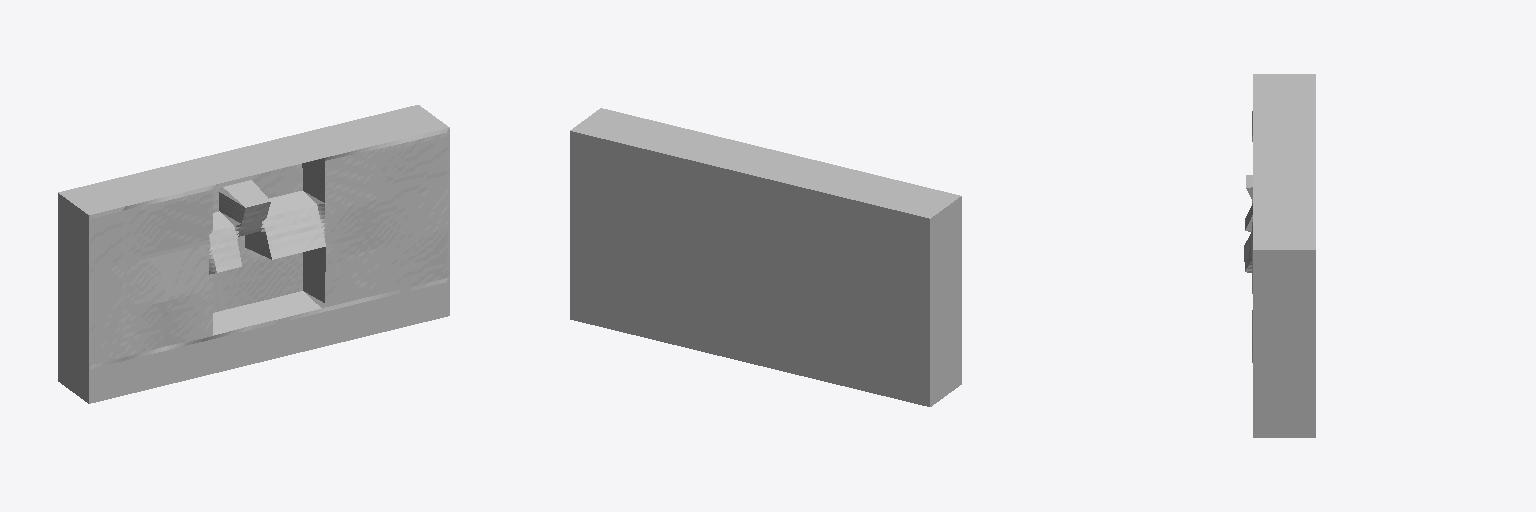
File: rectangular_prism_bumps_7_0.obj
The picture shows the model from 3 angles: view 1: azimuth 30°, elevation 25°; view 2: azimuth 150°, elevation 25°; view 3: azimuth 270°, elevation 25°; orthographic projection.
Size of the model in its own units: 10 by 5 by 1.72.